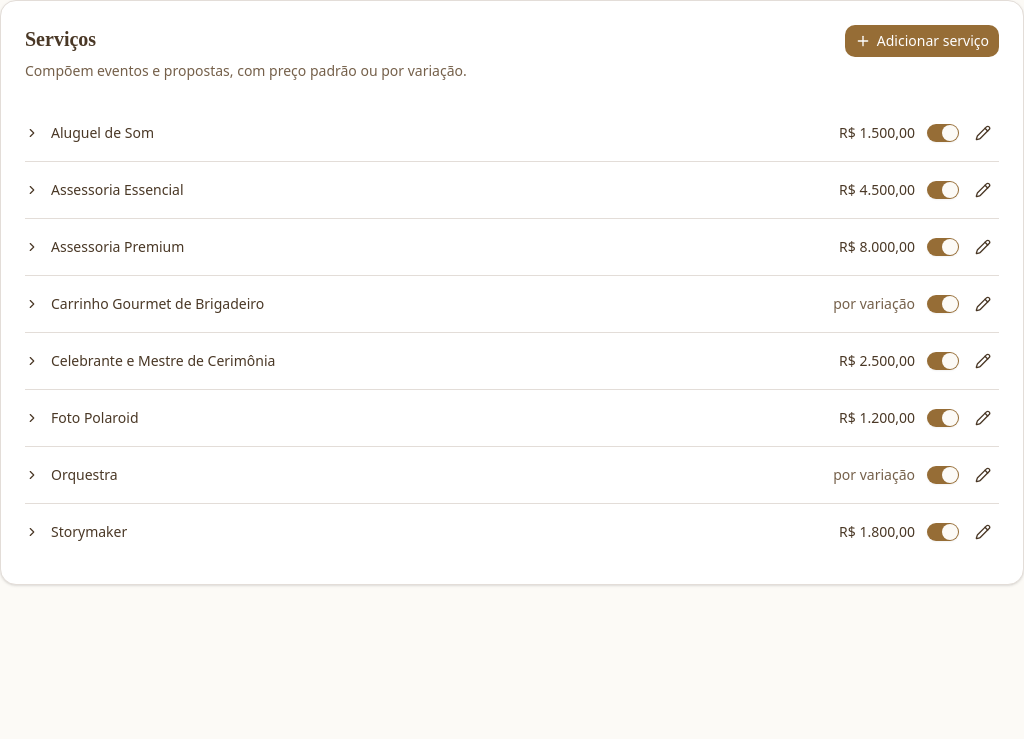
Scenario: ServicosTab › lists the 8 seeded services; Orquestra shows 'por variação' and expands to its 3 priced variants
Expected: the text "Orquestra" is shown, x1=51 y1=465 x2=118 y2=485
Expected: the text "por variação" in the row of "Orquestra" is shown, x1=833 y1=465 x2=915 y2=484
Click the button named "Expandir Orquestra" at (32, 475), box x1=25 y1=468 x2=39 y2=482
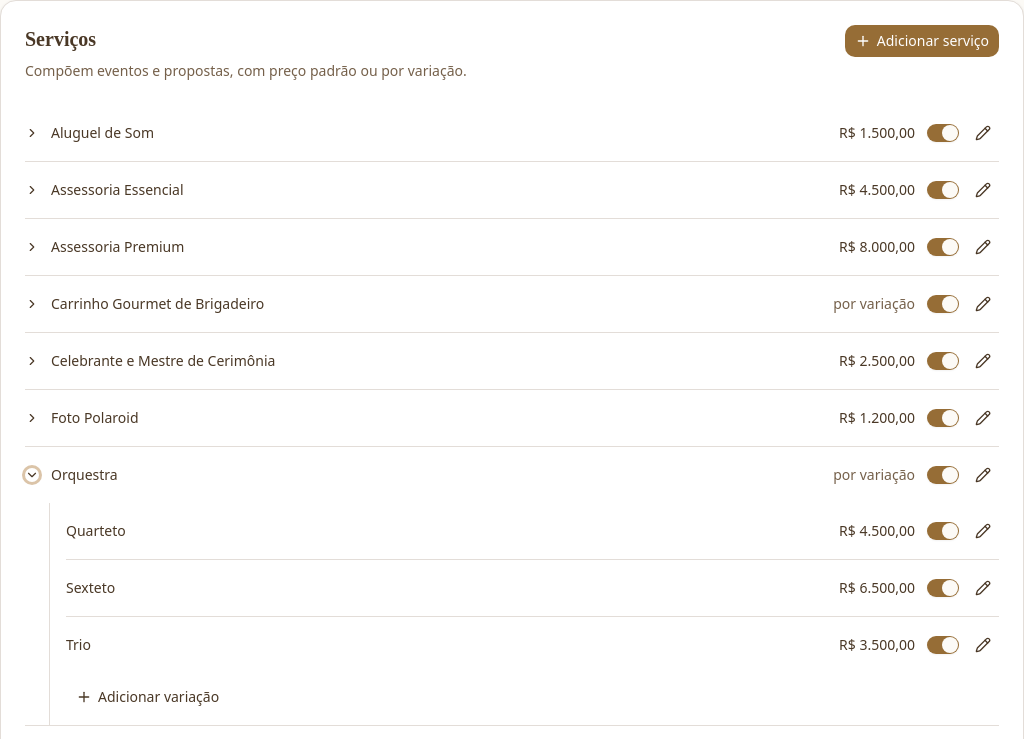
Now the text "Trio" is shown, box x1=66 y1=635 x2=91 y2=655
Now the text "R$ 3.500,00" is shown, box x1=839 y1=635 x2=915 y2=655
Now the text "Quarteto" is shown, box x1=66 y1=521 x2=126 y2=541
